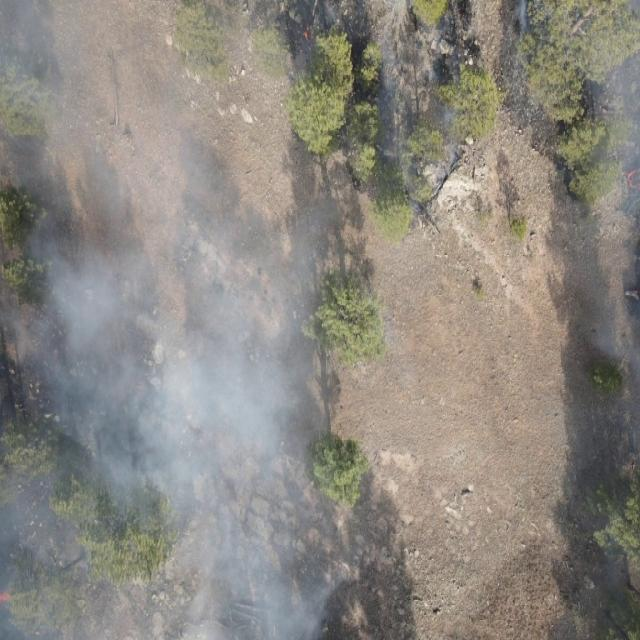fire: (627, 166, 640, 192), (299, 24, 314, 44), (0, 588, 11, 608)
smoke: (0, 0, 360, 640), (508, 0, 640, 160), (381, 0, 472, 205), (586, 159, 640, 363), (613, 363, 640, 473)
